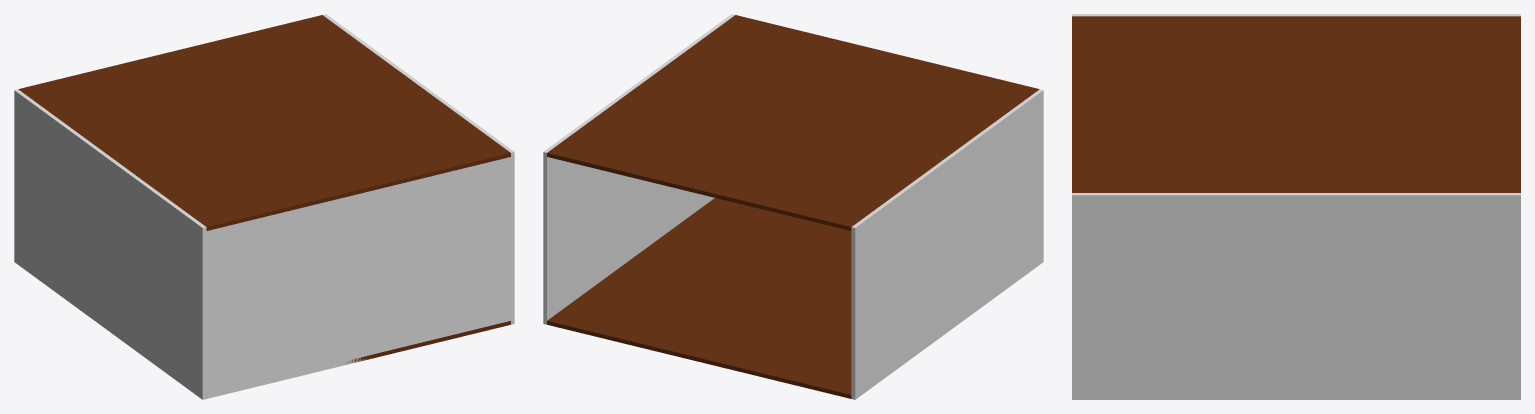
The model's file is PlaceHolderRoom.fbx.
3 renders of one model, left to right at view 1: azimuth 30°, elevation 25°; view 2: azimuth 150°, elevation 25°; view 3: azimuth 270°, elevation 25°, orthographic. The views are drawn at different scales.
Visible parts, largest first — view 1: Cube.002, SideWall1.006, SideWall1.005, SideWall1.001, Cube.003; view 2: Cube.002, Cube.003, SideWall1.005, SideWall1.001; view 3: SideWall1.001, Cube.002, SideWall1.005.
Part boxes in pixels (x1,y1,x2,y2): Cube.002: [18, 15, 510, 230]; SideWall1.006: [206, 157, 510, 398]; SideWall1.005: [14, 89, 206, 399]; SideWall1.001: [323, 14, 514, 324]; Cube.003: [347, 321, 510, 363]; Cube.002: [547, 15, 1039, 230]; Cube.003: [547, 198, 851, 398]; SideWall1.005: [851, 89, 1043, 399]; SideWall1.001: [543, 14, 734, 324]; SideWall1.001: [1072, 193, 1520, 399]; Cube.002: [1072, 16, 1520, 192]; SideWall1.005: [1072, 14, 1520, 16].
Bounding box in the file's own units: 517 × 272 × 541.
